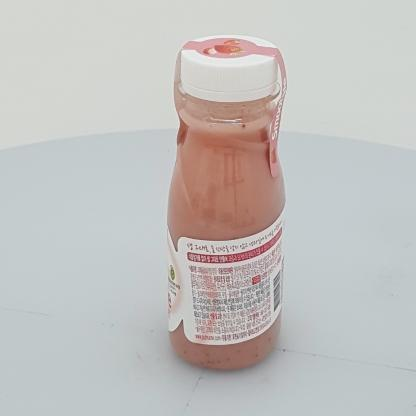--------------------190ML: (167, 35, 287, 369)
